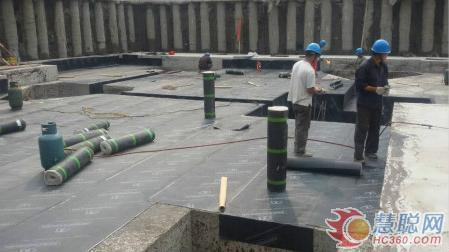helmet: (368, 37, 392, 62), (303, 40, 325, 64), (356, 47, 365, 61)
